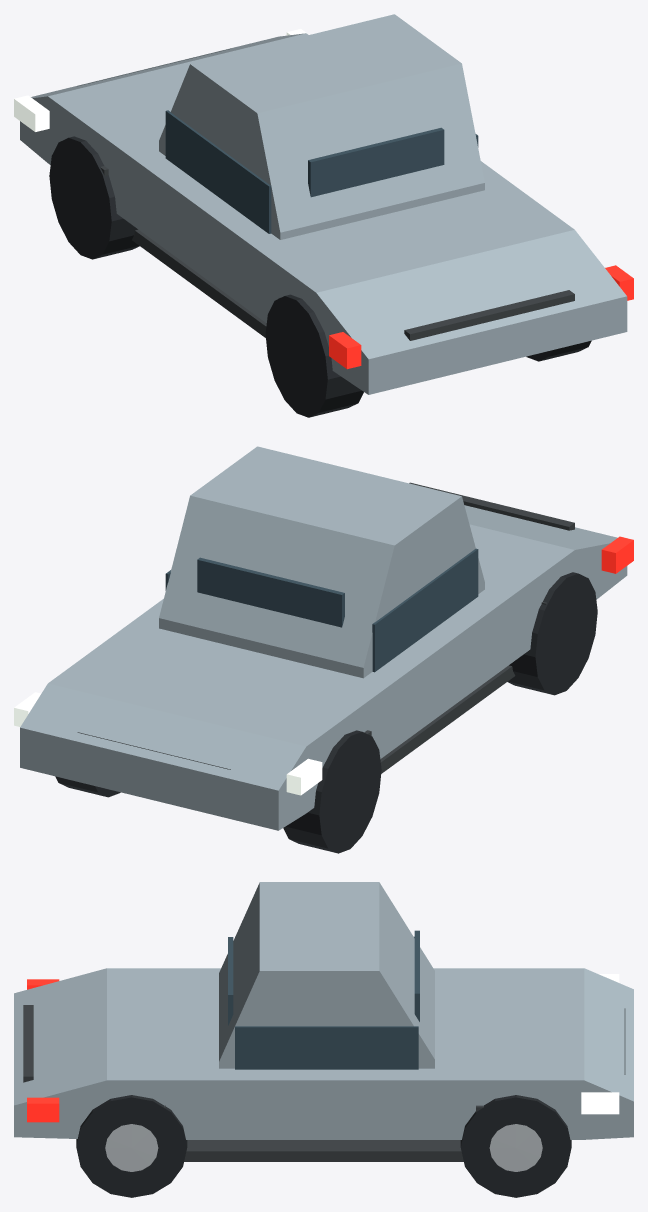
The model's file is volvo-xc60-recharge.glb.
3 views of the same model, one above another, from view 1: azimuth 30°, elevation 25°; view 2: azimuth 150°, elevation 25°; view 3: azimuth 270°, elevation 25° (orthographic). The views are drawn at different scales.
Parts seen in each view (by area): view 1: volvo-xc60-recharge illustrative model; view 2: volvo-xc60-recharge illustrative model; view 3: volvo-xc60-recharge illustrative model.
Boxes of the visible parts, x1,y1,x2,y2 form: volvo-xc60-recharge illustrative model: [14, 14, 633, 417]; volvo-xc60-recharge illustrative model: [14, 446, 633, 853]; volvo-xc60-recharge illustrative model: [14, 882, 633, 1197].
Bounding box in the file's own units: 2.02 × 1.61 × 4.25.
